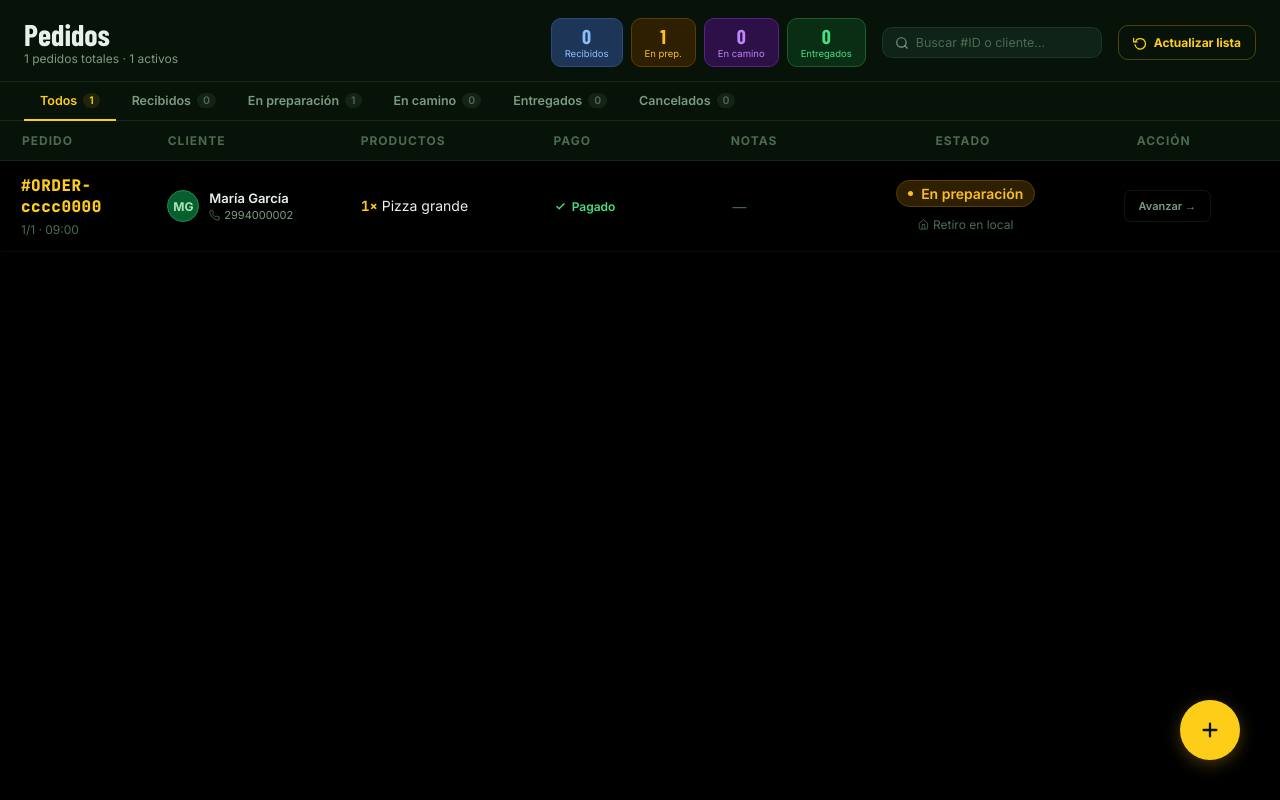
Test case: botón Avanzar — label según estado y tipo › IN_PREPARATION + TAKEAWAY → "Avanzar a Para retirar"
What coordinates should you click on to do the following:
click the element with class "orders-row"
I would click on:
 (640, 206)
Its box is [0, 161, 1279, 252].
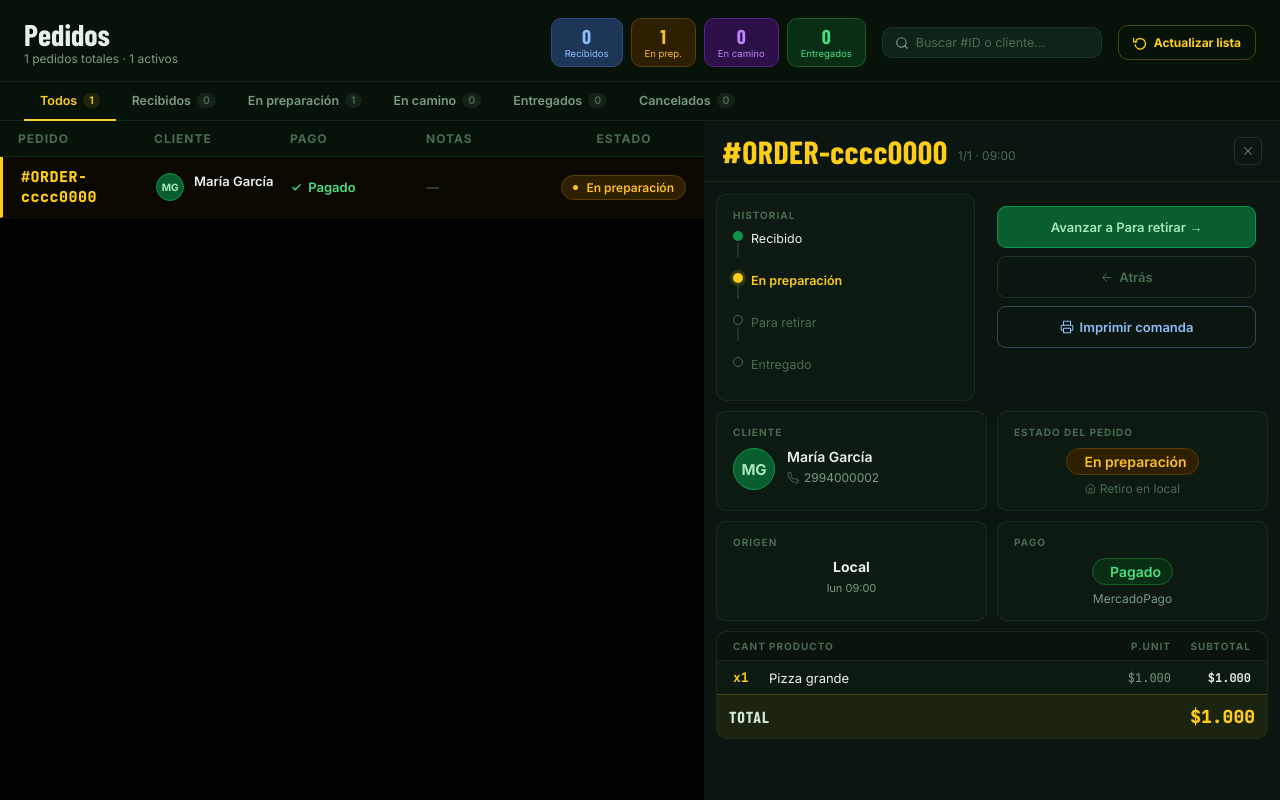
Now the button "Avanzar a Para retirar →" is shown, box [997, 206, 1256, 248]
